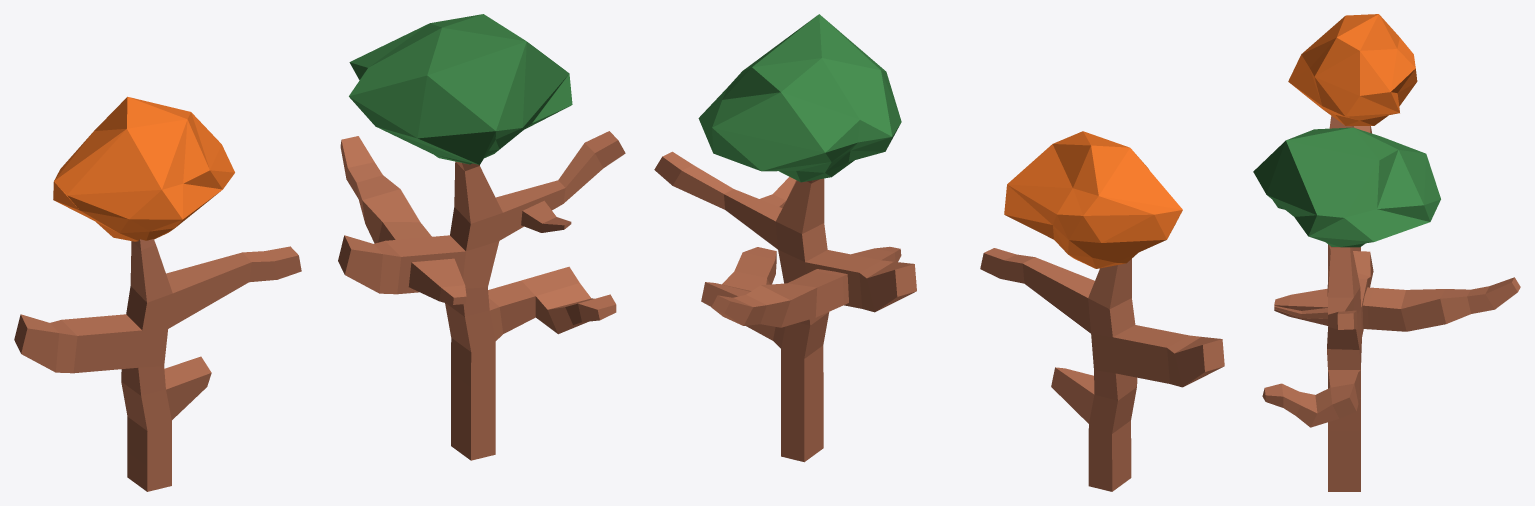
File: Low Poly Tree_01.fbx
3 views of the same model, side by side, from view 1: azimuth 30°, elevation 25°; view 2: azimuth 150°, elevation 25°; view 3: azimuth 270°, elevation 25° (orthographic). The views are drawn at different scales.
Parts seen in each view (by area): view 1: Tree trunk_02, Tree trunk, Tree leaves_02, Tree leaves; view 2: Tree trunk_02, Tree leaves_02, Tree trunk, Tree leaves; view 3: Tree trunk_02, Tree leaves_02, Tree leaves, Tree trunk.
Part boxes in pixels (x1=…): Tree trunk_02: x1=338, y1=131, x2=625, y2=460; Tree trunk: x1=14, y1=239, x2=301, y2=491; Tree leaves_02: x1=349, y1=14, x2=572, y2=164; Tree leaves: x1=53, y1=96, x2=234, y2=241; Tree trunk_02: x1=654, y1=151, x2=916, y2=462; Tree leaves_02: x1=698, y1=14, x2=901, y2=182; Tree trunk: x1=980, y1=248, x2=1224, y2=491; Tree leaves: x1=1004, y1=131, x2=1182, y2=268; Tree trunk_02: x1=1262, y1=246, x2=1520, y2=491; Tree leaves_02: x1=1253, y1=127, x2=1440, y2=247; Tree leaves: x1=1288, y1=14, x2=1417, y2=125; Tree trunk: x1=1328, y1=116, x2=1371, y2=280.
Size of the model in its own units: 18.55 by 12.76 by 8.75.
